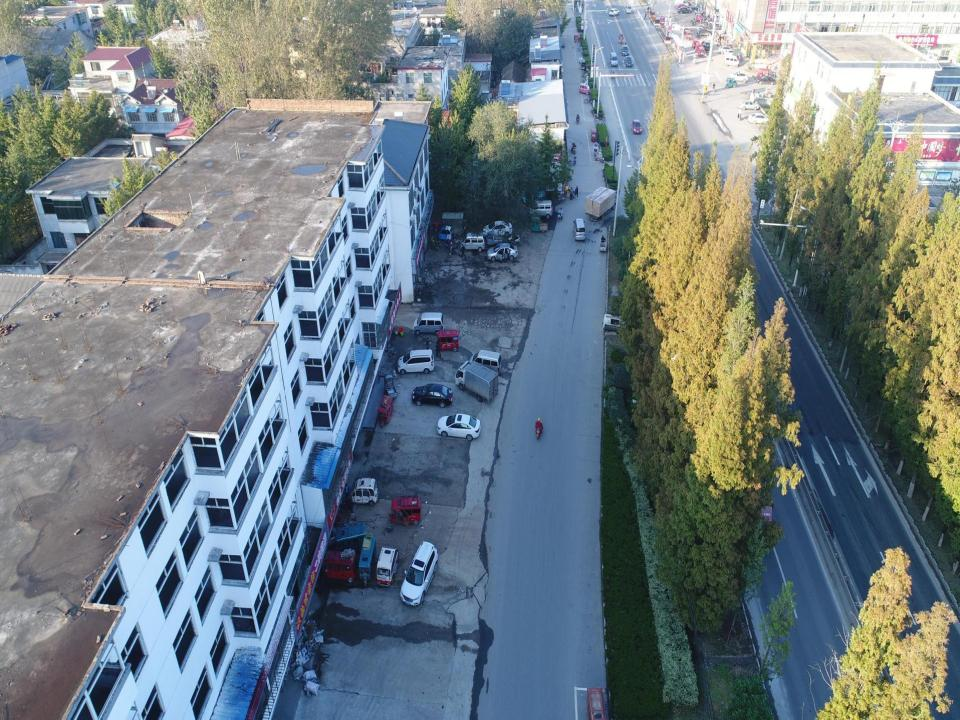car: (399, 540, 439, 606), (437, 412, 481, 440), (412, 383, 453, 408), (397, 350, 435, 376), (486, 242, 518, 262), (483, 219, 513, 240), (748, 112, 770, 125), (738, 99, 760, 110), (729, 70, 749, 82), (756, 75, 776, 85), (631, 117, 642, 135), (723, 47, 739, 57), (718, 46, 736, 54), (677, 6, 692, 15), (623, 55, 633, 67), (702, 38, 711, 51), (609, 7, 619, 16), (621, 45, 629, 56), (676, 3, 690, 9)
truck: (722, 450, 774, 550), (585, 186, 619, 222), (527, 199, 554, 220)
van: (469, 348, 503, 375), (413, 312, 445, 335), (460, 232, 484, 252), (572, 217, 588, 243), (723, 55, 741, 67), (609, 52, 618, 66), (625, 6, 632, 14)
